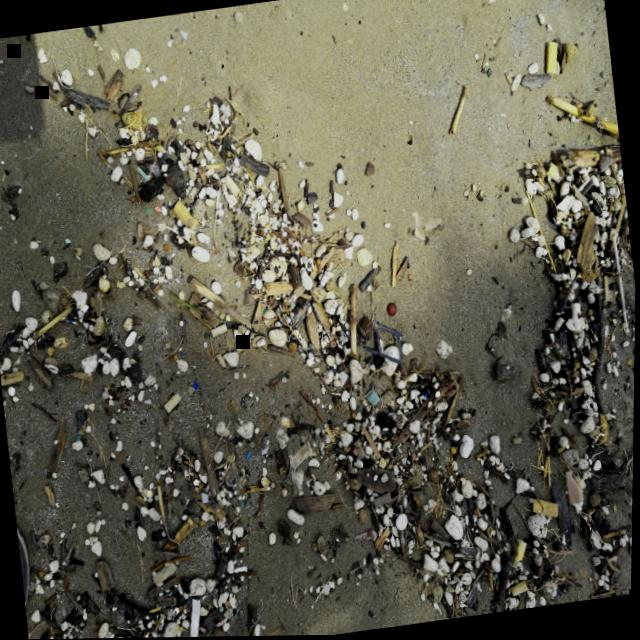Cigarette: (612, 237, 627, 324), (511, 539, 527, 571), (533, 500, 558, 518), (545, 42, 556, 75), (571, 304, 581, 334), (512, 582, 529, 597)
Other plastic bottle: (565, 472, 584, 506), (191, 599, 201, 638), (366, 388, 380, 407), (135, 165, 149, 179), (493, 572, 499, 580), (153, 205, 161, 211), (246, 450, 250, 458), (354, 448, 358, 456), (193, 382, 198, 388), (424, 390, 428, 396)
Unlabeled litter: (363, 324, 402, 364)
